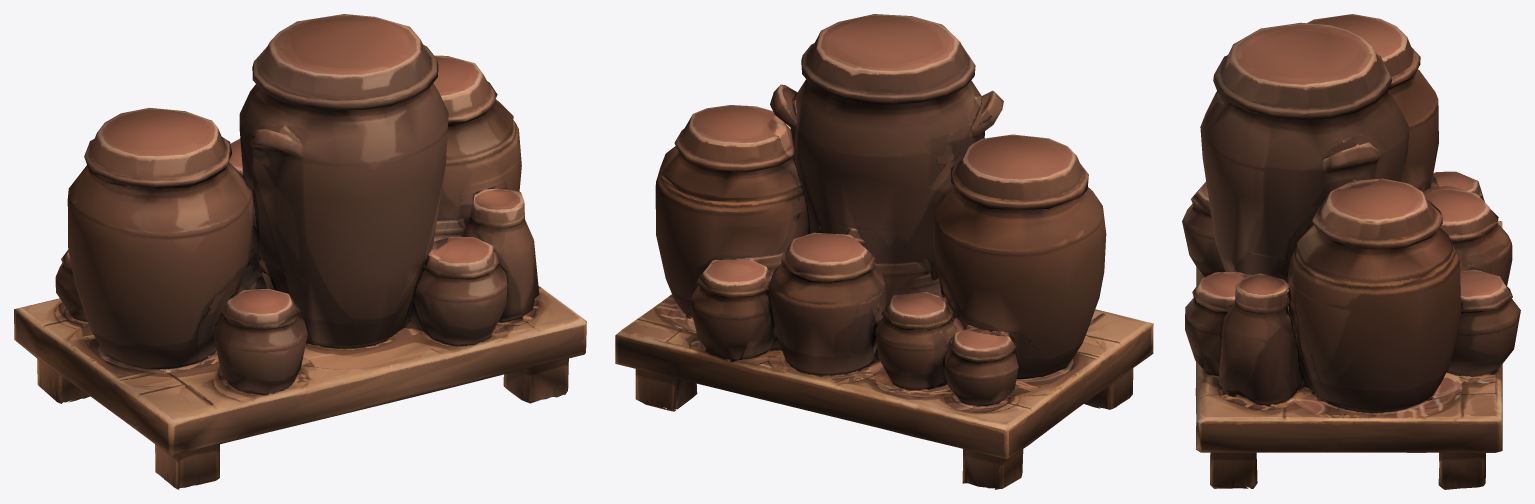
File: stall_pot.glb
The picture shows the model from 3 angles, left to right: view 1: azimuth 30°, elevation 25°; view 2: azimuth 150°, elevation 25°; view 3: azimuth 270°, elevation 25°; orthographic projection. The views are drawn at different scales.
Parts seen in each view (by area): view 1: low; view 2: low; view 3: low.
Boxes of the visible parts, x1,y1,x2,y2 form: low: (14,14,586,489); low: (615,14,1153,489); low: (1182,14,1520,489).
Bounding box in the file's own units: 0.999 × 0.7775 × 0.6753.
Materials: 1 (1 with a texture image).
